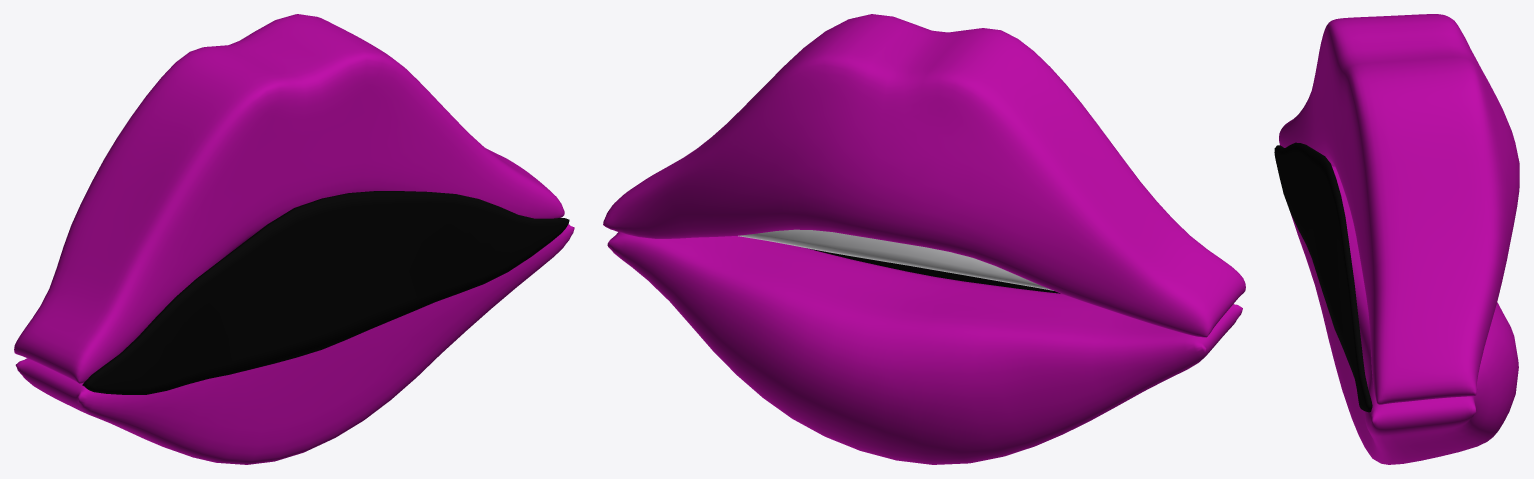
File: lips.FBX
3 renders of one model, left to right at view 1: azimuth 30°, elevation 25°; view 2: azimuth 150°, elevation 25°; view 3: azimuth 270°, elevation 25°, orthographic. The views are drawn at different scales.
Parts seen in each view (by area): view 1: Group51538, Group003, Group004; view 2: Group51538, Group004, Group002, Group003; view 3: Group51538, Group004, Group003.
Part boxes in pixels (<box>): Group51538: <box>14,14,564,383</box>; Group003: <box>82,191,569,394</box>; Group004: <box>15,224,574,464</box>; Group51538: <box>603,14,1245,337</box>; Group004: <box>607,232,1242,464</box>; Group002: <box>738,229,1053,290</box>; Group003: <box>807,248,1060,293</box>; Group51538: <box>1279,14,1519,404</box>; Group004: <box>1291,166,1518,464</box>; Group003: <box>1274,142,1372,412</box>.
Bounding box in the file's own units: 23.74 × 16.03 × 9.
